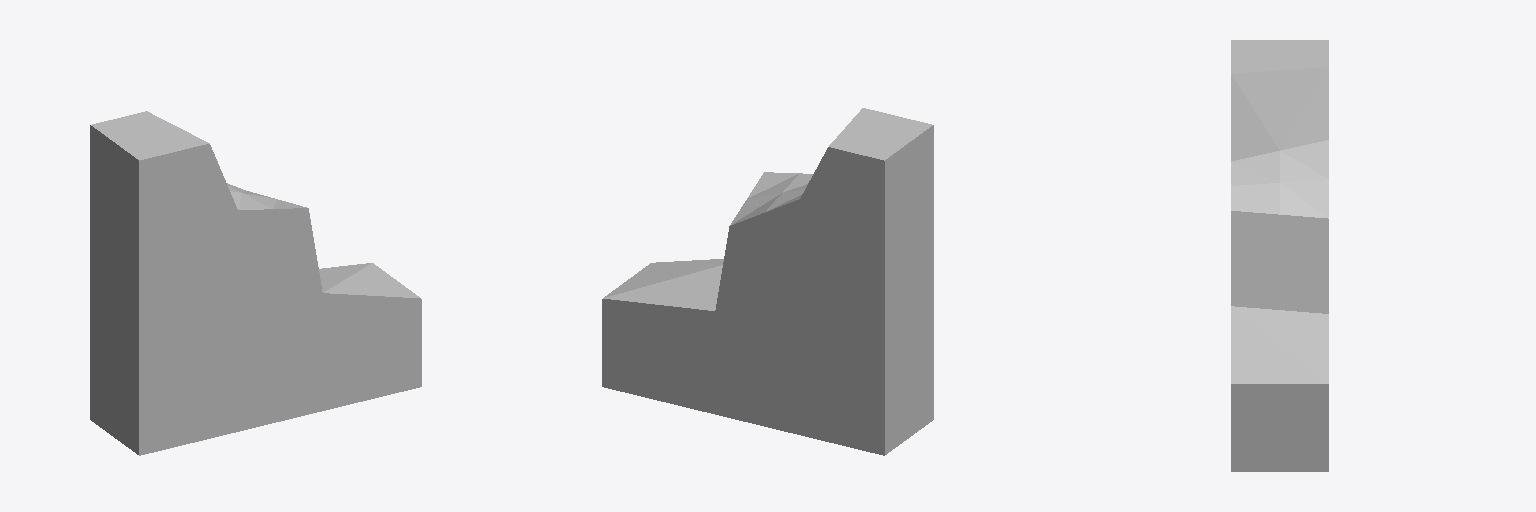
File: struct_wall_cracked_1.obj
3 views of the same model, side by side, from view 1: azimuth 30°, elevation 25°; view 2: azimuth 150°, elevation 25°; view 3: azimuth 270°, elevation 25° (orthographic).
Visible parts, largest first — view 1: struct_wall_cracked_1; view 2: struct_wall_cracked_1; view 3: struct_wall_cracked_1.
Boxes of the visible parts, x1,y1,x2,y2 form: struct_wall_cracked_1: [90, 111, 421, 455]; struct_wall_cracked_1: [602, 108, 933, 455]; struct_wall_cracked_1: [1231, 40, 1328, 471].
Bounding box in the file's own units: 1 × 1 × 0.3.